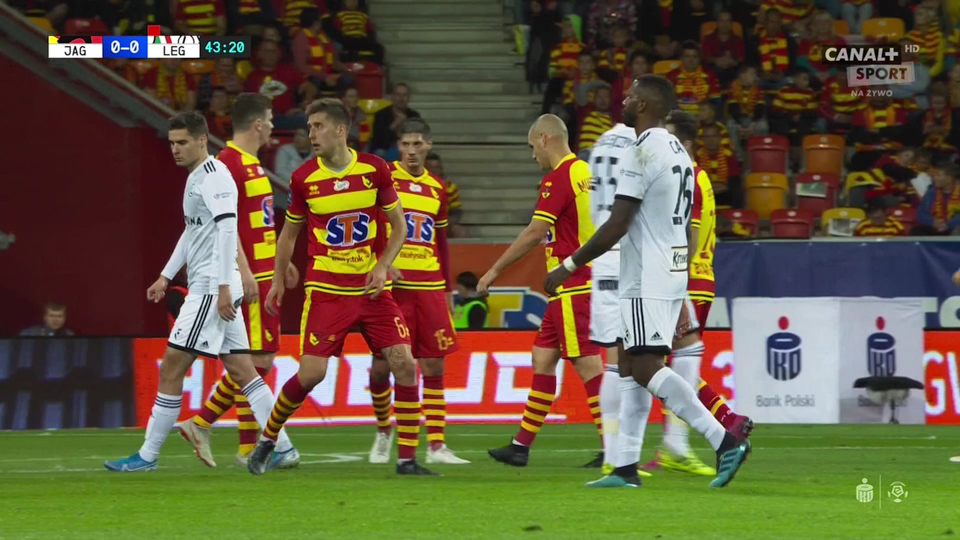Adidas: (649, 331, 662, 340)
